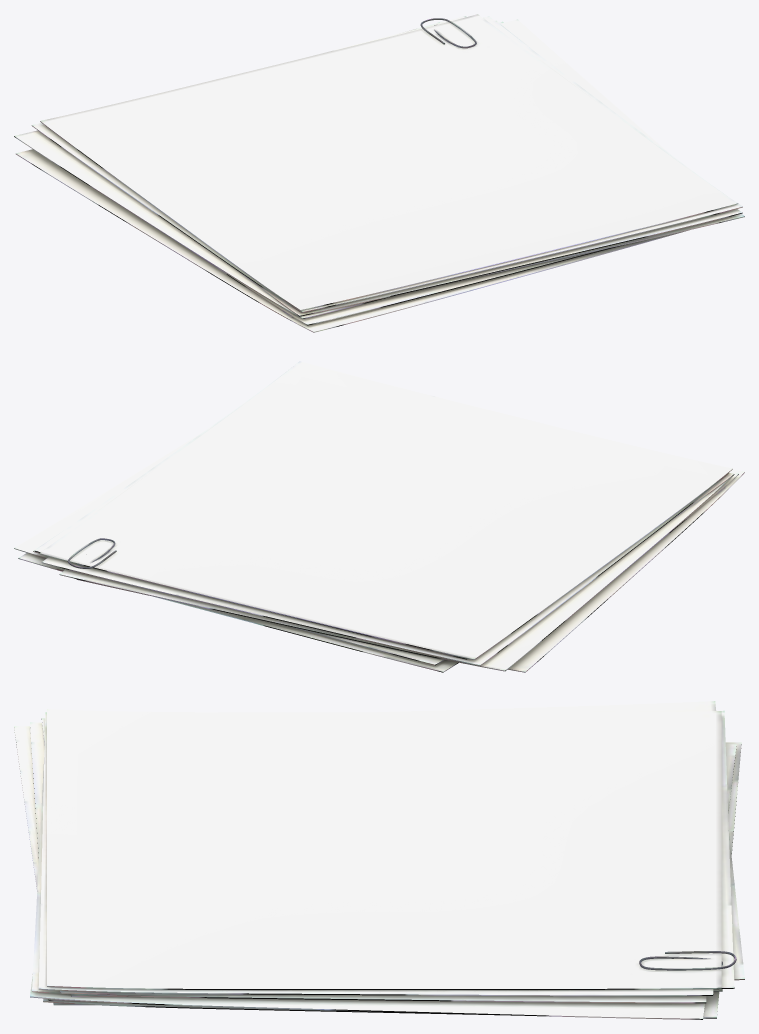
The model's file is research-baked.glb.
3 renders of one model, top to bottom at view 1: azimuth 30°, elevation 25°; view 2: azimuth 150°, elevation 25°; view 3: azimuth 270°, elevation 25°, orthographic. The views are drawn at different scales.
Parts seen in each view (by area): view 1: Loose research sheet 8, Loose research sheet 0, Loose research sheet 4, Loose research sheet 7, Loose research sheet 3, Loose research sheet 5, Loose research sheet 2, Loose research sheet 6; view 2: Loose research sheet 8, Loose research sheet 4, Loose research sheet 6, Loose research sheet 0, Loose research sheet 3, Loose research sheet 1, Loose research sheet 7; view 3: Loose research sheet 8, Loose research sheet 3, Loose research sheet 7, Loose research sheet 5, Loose research sheet 4, Loose research sheet 6, Loose research sheet 1, Loose research sheet 0, Loose research sheet 2, Bent satin steel paperclip.
Part boxes in pixels (<box>): Loose research sheet 8: <box>40,14,738,310</box>; Loose research sheet 0: <box>15,149,688,332</box>; Loose research sheet 4: <box>14,22,439,318</box>; Loose research sheet 7: <box>295,16,742,312</box>; Loose research sheet 3: <box>293,19,744,315</box>; Loose research sheet 5: <box>242,20,742,316</box>; Loose research sheet 2: <box>194,244,624,325</box>; Loose research sheet 6: <box>31,16,466,312</box>; Loose research sheet 8: <box>39,362,732,659</box>; Loose research sheet 4: <box>59,474,734,671</box>; Loose research sheet 6: <box>41,473,728,665</box>; Loose research sheet 0: <box>76,469,744,672</box>; Loose research sheet 3: <box>14,430,444,665</box>; Loose research sheet 1: <box>18,487,725,672</box>; Loose research sheet 7: <box>35,361,543,659</box>; Loose research sheet 8: <box>47,709,721,989</box>; Loose research sheet 3: <box>30,744,736,1019</box>; Loose research sheet 7: <box>38,712,713,996</box>; Loose research sheet 5: <box>32,757,706,1003</box>; Loose research sheet 4: <box>41,701,744,996</box>; Loose research sheet 6: <box>60,710,734,994</box>; Loose research sheet 1: <box>43,742,741,1018</box>; Loose research sheet 0: <box>14,726,94,1005</box>; Loose research sheet 2: <box>30,722,722,1001</box>; Bent satin steel paperclip: <box>639,951,736,970</box>.
Bounding box in the file's own units: 3.41 × 0.122 × 3.28.
Materials: 1 (1 with a texture image).
